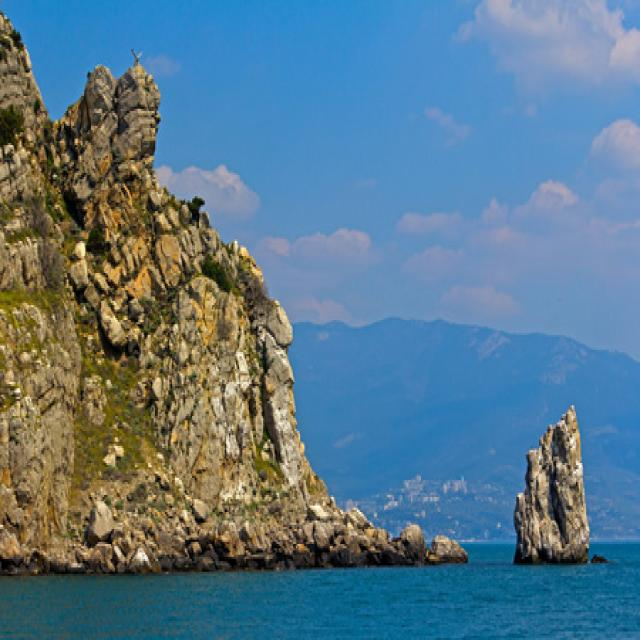reef: (505, 406, 601, 552)
